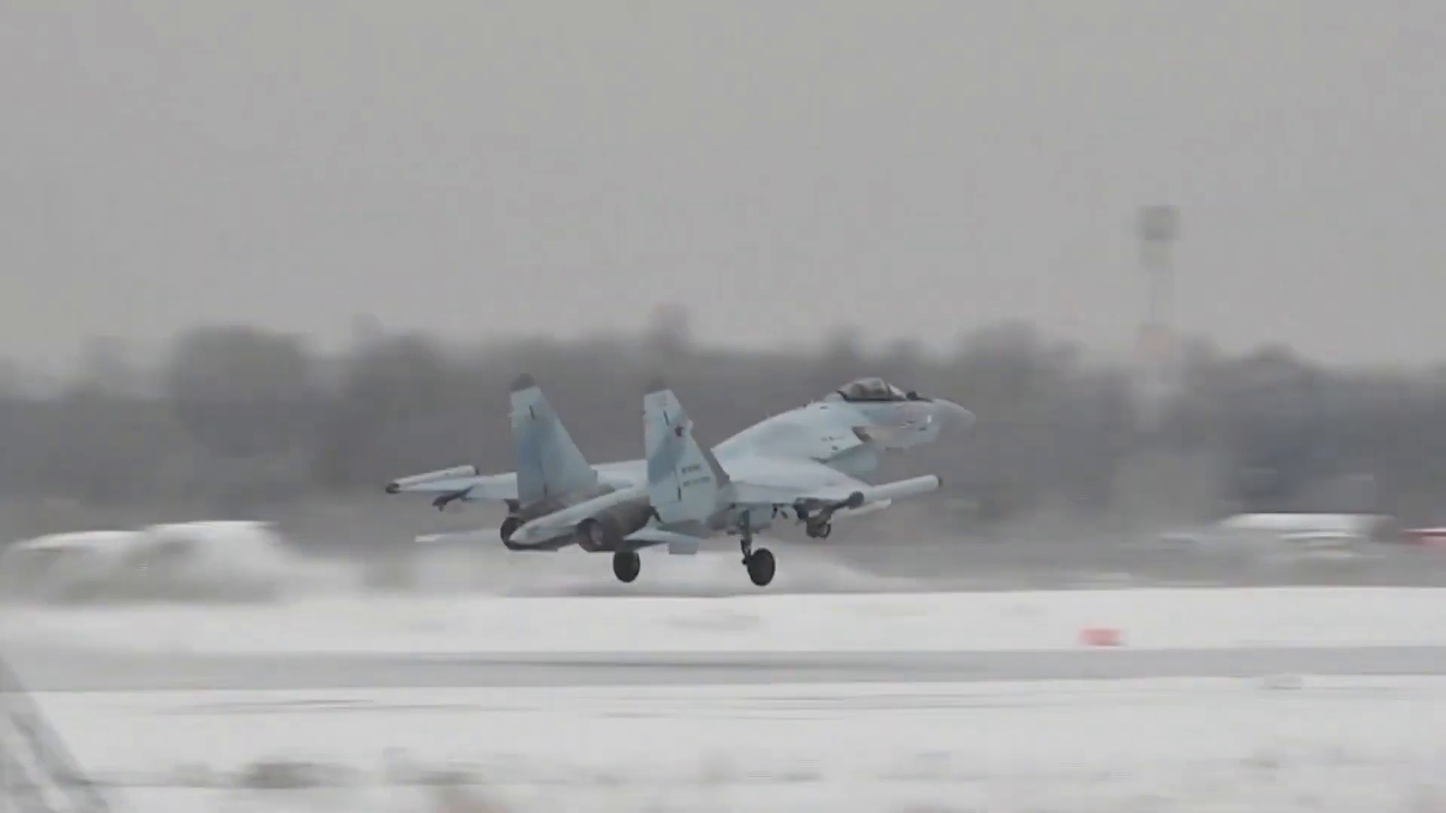Su35: (386, 375, 976, 585)
